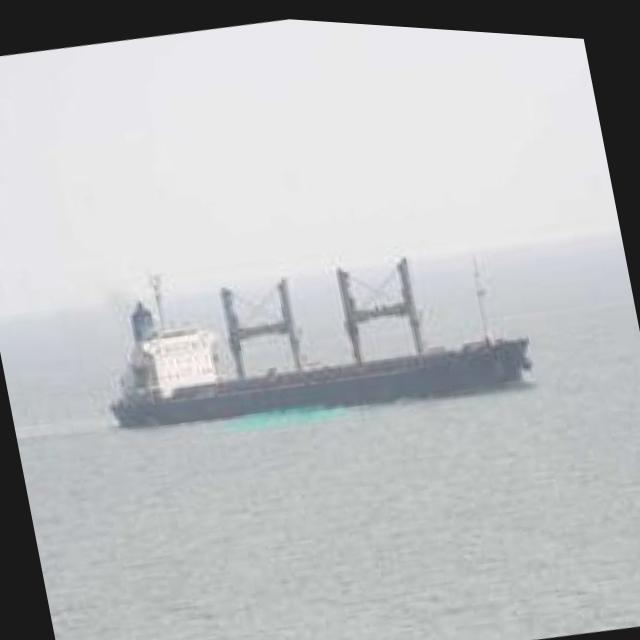ship2: (109, 251, 535, 429)
